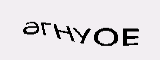Г: (40, 21, 51, 37)
Е: (120, 26, 140, 48)
Н: (52, 23, 76, 41)
О: (93, 26, 118, 47)
У: (71, 26, 90, 45)
Ә: (22, 19, 41, 36)
